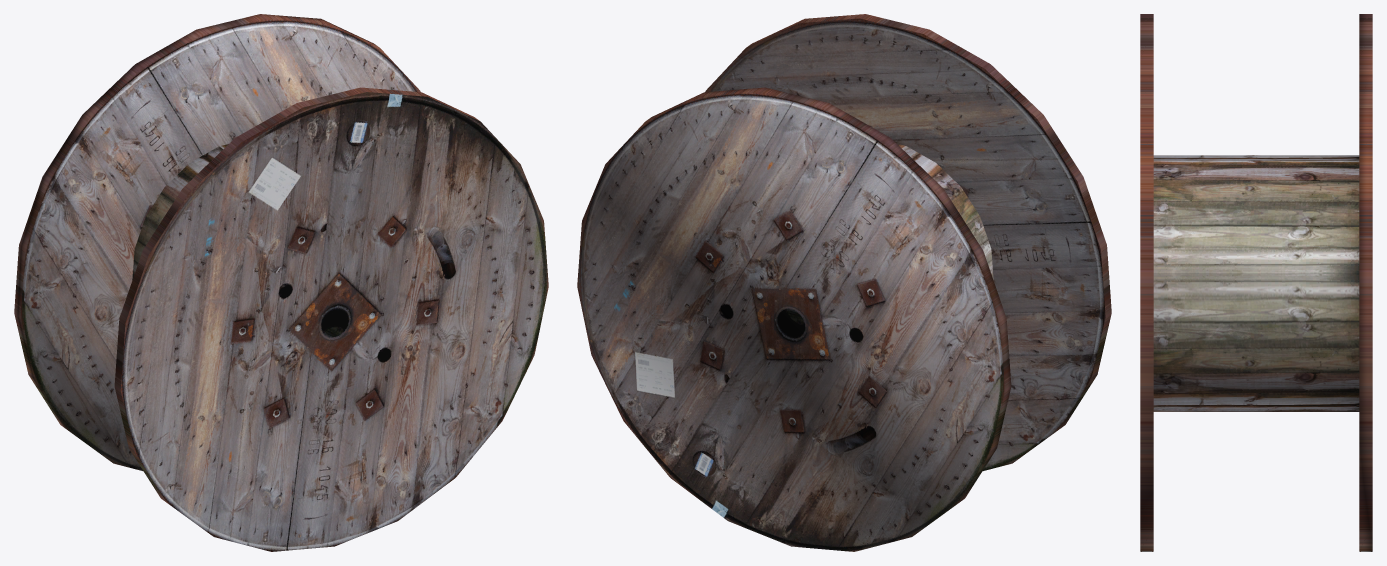
The model's file is wire_holder.obj.
3 renders of one model, left to right at view 1: azimuth 30°, elevation 25°; view 2: azimuth 150°, elevation 25°; view 3: azimuth 270°, elevation 25°, orthographic. The views are drawn at different scales.
Parts seen in each view (by area): view 1: wire_holder; view 2: wire_holder; view 3: wire_holder.
Part boxes in pixels (x1=…): wire_holder: x1=14, y1=14, x2=548, y2=551; wire_holder: x1=577, y1=14, x2=1111, y2=551; wire_holder: x1=1140, y1=14, x2=1372, y2=551.
Bounding box in the file's own units: 78.06 × 77.84 × 33.63.
Materials: 1 (1 with a texture image).
